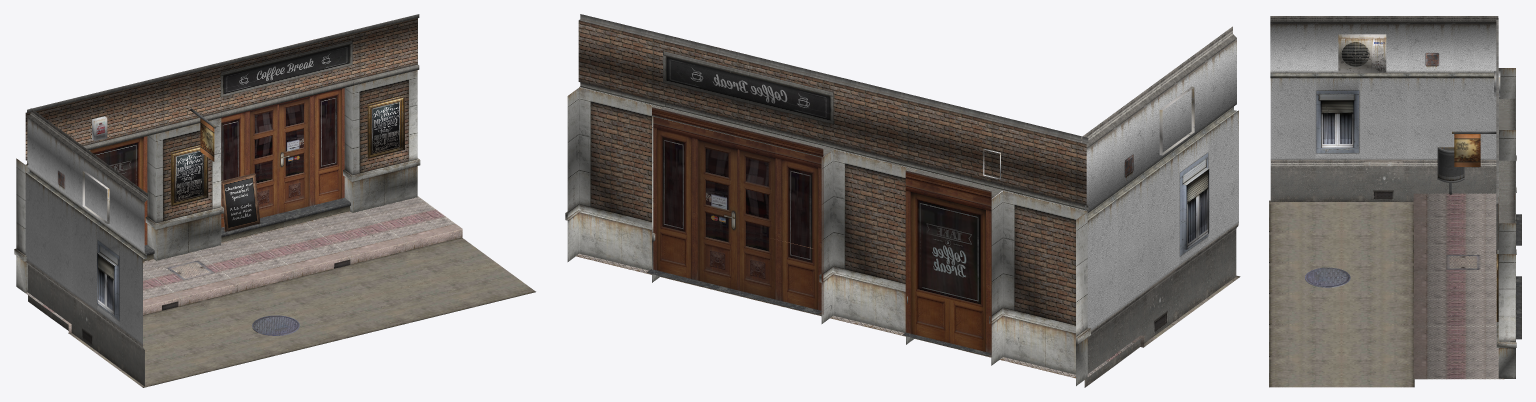
Rendered from Enviorment.obj.
3 views of the same model, side by side, from view 1: azimuth 30°, elevation 25°; view 2: azimuth 150°, elevation 25°; view 3: azimuth 270°, elevation 25° (orthographic). The views are drawn at different scales.
Parts seen in each view (by area): view 1: Environment; view 2: Environment; view 3: Environment.
Part boxes in pixels (<box>): Environment: <box>14,14,535,387</box>; Environment: <box>565,14,1240,387</box>; Environment: <box>1269,16,1521,387</box>.
Size of the model in its own units: 8.03 by 3.78 by 4.57.
Materials: 1 (1 with a texture image).
